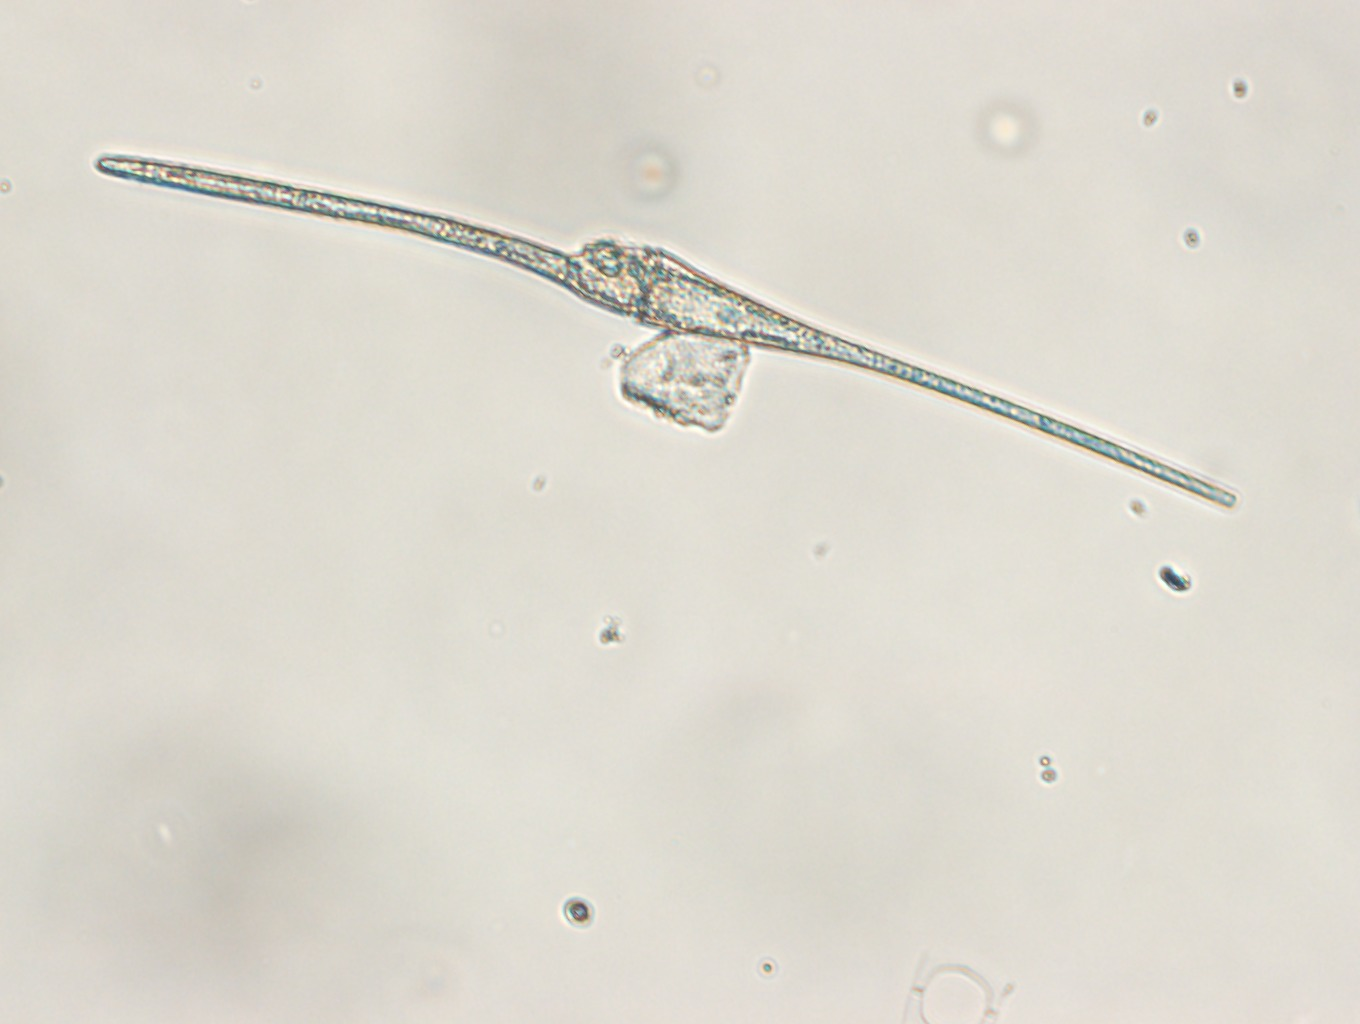ceratium fusus: (92, 153, 1242, 510)
